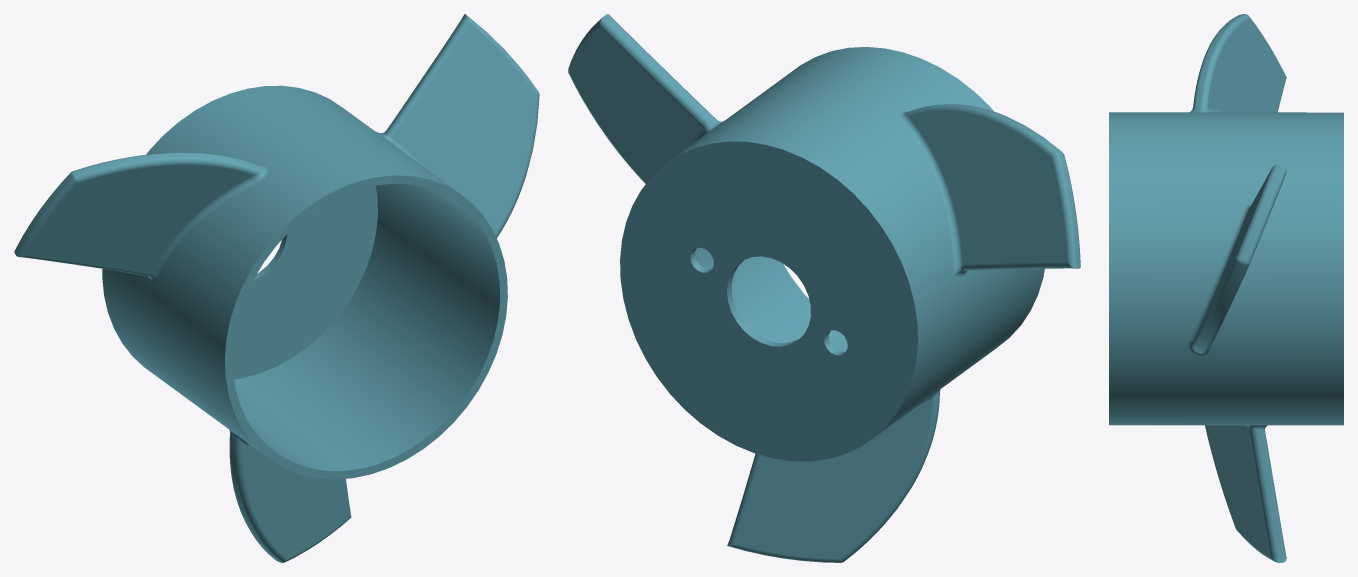
The model's file is t200_cw_prop_livery.dae.
3 views of the same model, side by side, from view 1: azimuth 30°, elevation 25°; view 2: azimuth 150°, elevation 25°; view 3: azimuth 270°, elevation 25° (orthographic). The views are drawn at different scales.
Visible parts, largest first — view 1: T200-CW; view 2: T200-CW; view 3: T200-CW.
Part boxes in pixels (x1,y1,x2,y2): T200-CW: (14, 14, 539, 562); T200-CW: (568, 14, 1080, 562); T200-CW: (1109, 14, 1343, 562).
Bounding box in the file's own units: 0.0711 × 0.03 × 0.0653.
